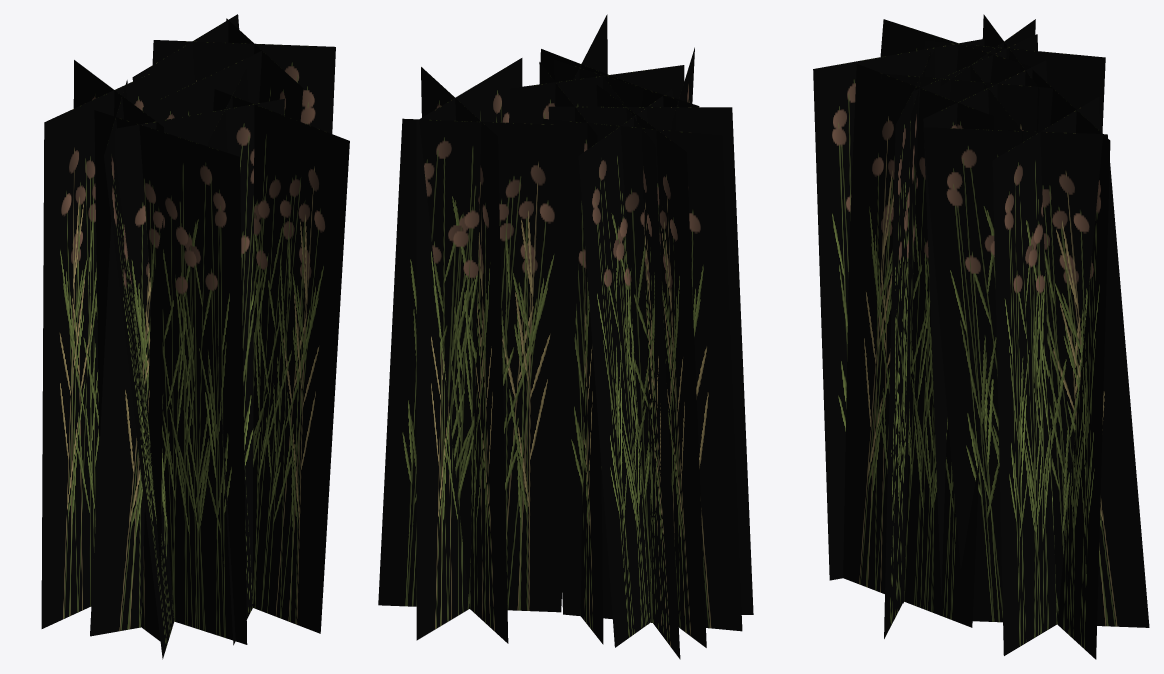
File: tpl_bog_reed.glb
The picture shows the model from 3 angles, left to right: view 1: azimuth 30°, elevation 25°; view 2: azimuth 150°, elevation 25°; view 3: azimuth 270°, elevation 25°; orthographic projection.
Visible parts, largest first — view 1: tpl_bog_reed; view 2: tpl_bog_reed; view 3: tpl_bog_reed.
Part boxes in pixels (left/top/right/bottom): tpl_bog_reed: left=41, top=14, right=349, bottom=659; tpl_bog_reed: left=378, top=14, right=753, bottom=659; tpl_bog_reed: left=813, top=14, right=1149, bottom=659.
Size of the model in its own units: 1.75 by 2.7 by 1.74.
Materials: 1 (1 with a texture image).
